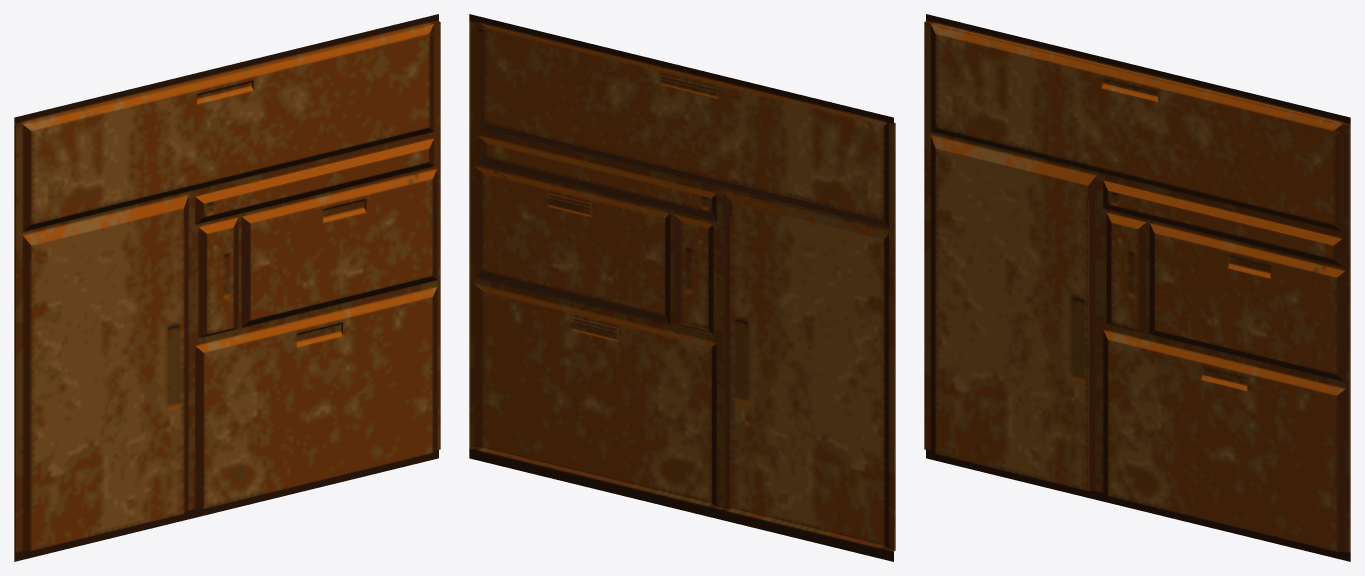
Rendered from maint1_2.fbx.
3 renders of one model, left to right at view 1: azimuth 30°, elevation 25°; view 2: azimuth 150°, elevation 25°; view 3: azimuth 330°, elevation 25°, orthographic.
Visible parts, largest first — view 1: maint1_2_mesh; view 2: maint1_2_mesh; view 3: maint1_2_mesh.
Boxes of the visible parts, box(x1,y1,x2,y2) form: maint1_2_mesh: box(14, 14, 440, 561); maint1_2_mesh: box(469, 14, 895, 561); maint1_2_mesh: box(924, 14, 1350, 561).
Bounding box in the file's own units: 256 × 256 × 4.
